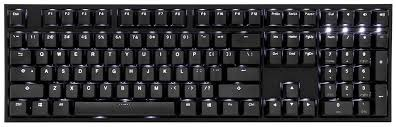keyboard: (4, 7, 391, 123)
